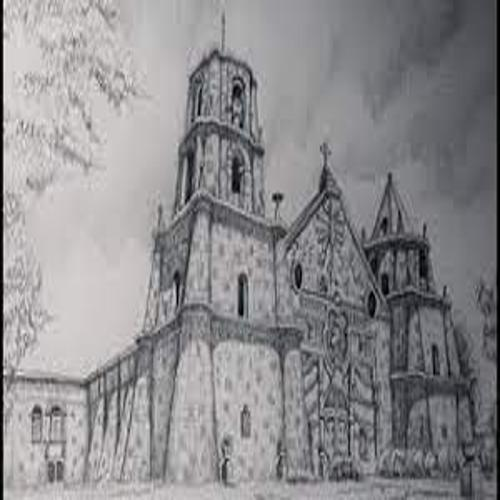Miagao Church: (152, 13, 476, 480)
